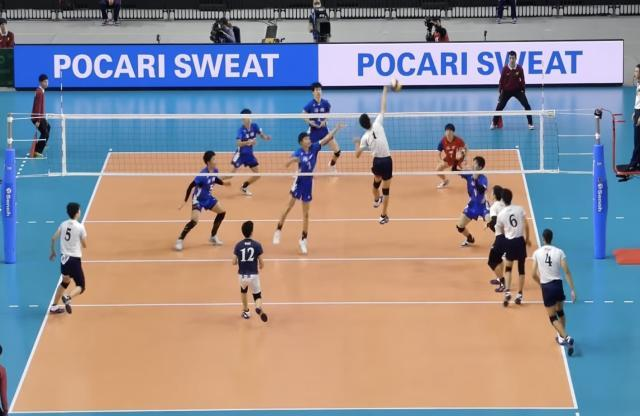spike: (350, 76, 410, 227)
